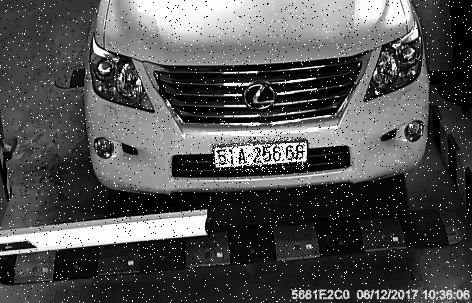License-plate: (211, 138, 310, 173)
